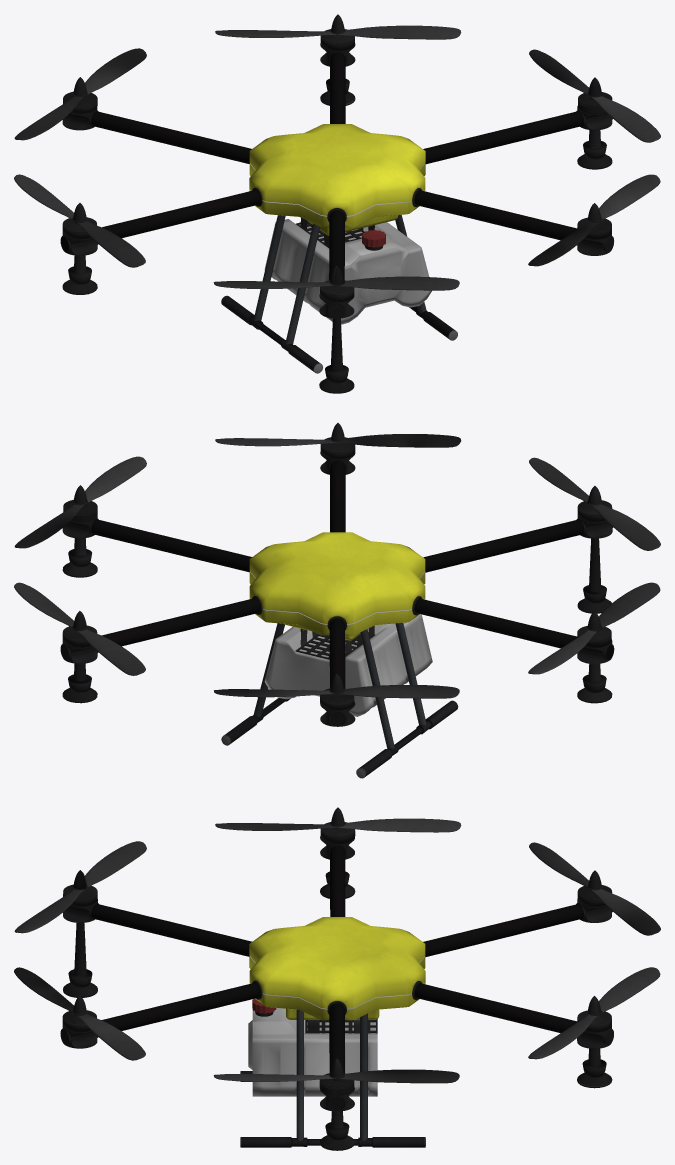
The model's file is agriculture-drone_draco.glb.
3 renders of one model, top to bottom at view 1: azimuth 30°, elevation 25°; view 2: azimuth 150°, elevation 25°; view 3: azimuth 270°, elevation 25°, orthographic.
Parts seen in each view (by area): view 1: pCylinder20, pCylinder7, polySurface24, polySurface6, polySurface9, polySurface5, polySurface8, polySurface7, polySurface4, pCylinder26, pCylinder23, polySurface13 (+3 smaller); view 2: pCylinder20, pCylinder7, polySurface24, polySurface4, polySurface7, polySurface6, polySurface9, polySurface8, polySurface5, pCylinder26, pCylinder23, polySurface13 (+8 smaller); view 3: pCylinder20, pCylinder7, polySurface24, polySurface8, polySurface5, polySurface7, polySurface4, polySurface9, polySurface6, pCylinder26, pCylinder23, polySurface13 (+7 smaller).
Boxes of the visible parts, x1,y1,x2,y2 form: pCylinder20: (249,124,425,227); pCylinder7: (61,52,613,317); polySurface24: (264,219,431,324); polySurface6: (215,14,461,39); polySurface9: (213,266,459,290); polySurface5: (529,49,660,142); polySurface8: (14,174,145,267); polySurface7: (14,48,146,140); polySurface4: (528,174,660,266); pCylinder26: (253,215,426,344); pCylinder23: (221,295,457,373); polySurface13: (319,318,354,393); pCylinder20: (249,532,425,635); pCylinder7: (61,460,613,725); polySurface24: (264,614,432,716); polySurface4: (215,423,461,447); polySurface7: (214,674,459,698); polySurface6: (14,582,145,675); polySurface9: (529,457,660,550); polySurface8: (528,582,660,674); polySurface5: (14,456,146,548); pCylinder26: (253,623,426,748); pCylinder23: (221,698,458,778); polySurface13: (577,538,611,613); pCylinder20: (249,917,425,1020); pCylinder7: (61,845,613,1110); polySurface24: (248,999,377,1096); polySurface8: (215,807,461,832); polySurface5: (213,1058,459,1083); polySurface7: (529,842,660,935); polySurface4: (14,967,145,1060); polySurface9: (14,841,146,933); polySurface6: (528,967,660,1059); pCylinder26: (296,1009,367,1140); pCylinder23: (240,1071,425,1147); polySurface13: (63,923,97,997).
Size of the model in its own units: 0.2092 by 0.0667 by 0.2151.
Materials: 1 (1 with a texture image).
